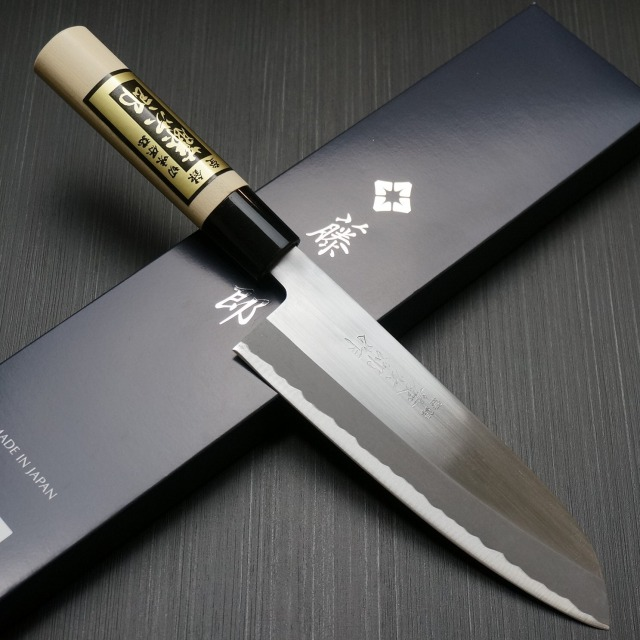knife: (35, 24, 612, 632)
